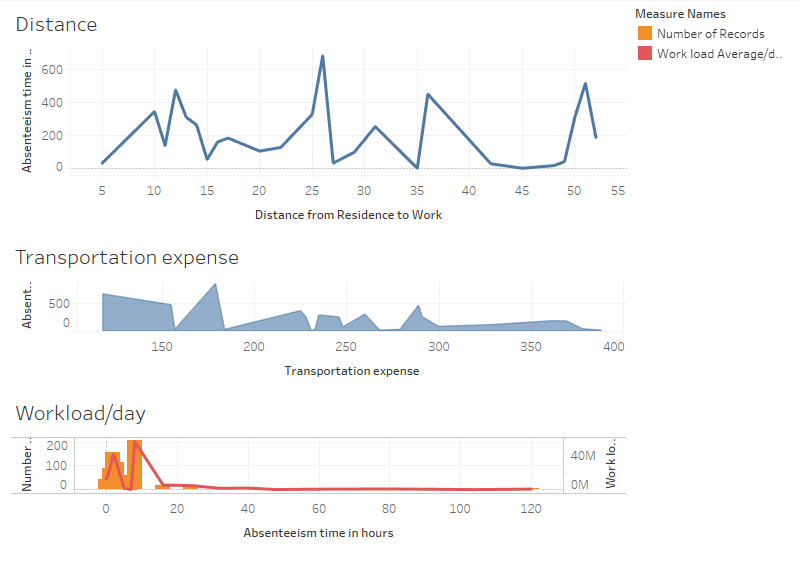

The dashboard page shown, as its layout file describes it:
{"tool":"tableau","page":{"name":"Dashboard 2","canvas":[800,600],"ordinal":3},"visuals":[{"type":"worksheet","title":"Sheet 4","mark":"Automatic","rows":["Absenteeism time in hours"],"cols":["Distance from Residence to Work"],"box":[8,8,624,233.2]},{"type":"legend","title":"Sheet 6","param":"[federated.0x288y2192xy9k11zkc5r09wspmi].[:Measure Names]","box":[632,8,160,66]},{"type":"worksheet","title":"Sheet 5","mark":"Area","rows":["Absenteeism time in hours"],"cols":["Transportation expense"],"box":[8,241.2,624,156.2]},{"type":"worksheet","title":"Sheet 6","mark":"Automatic","rows":["Number of Records","Work load Average/day"],"cols":["Absenteeism time in hours"],"box":[8,397.3,624,162.7]}]}

Visuals, with their boxes on the page's 800x600 design canvas (x1, y1, x2, y2). These are canvas units, not pixel positions in the 799x569 screenshot, which may show the page scaled, cropped or inside an application window:
"Sheet 4" worksheet: bbox(8, 8, 632, 241)
"Sheet 6" legend: bbox(632, 8, 792, 74)
"Sheet 5" worksheet (Area marks): bbox(8, 241, 632, 397)
"Sheet 6" worksheet: bbox(8, 397, 632, 560)
